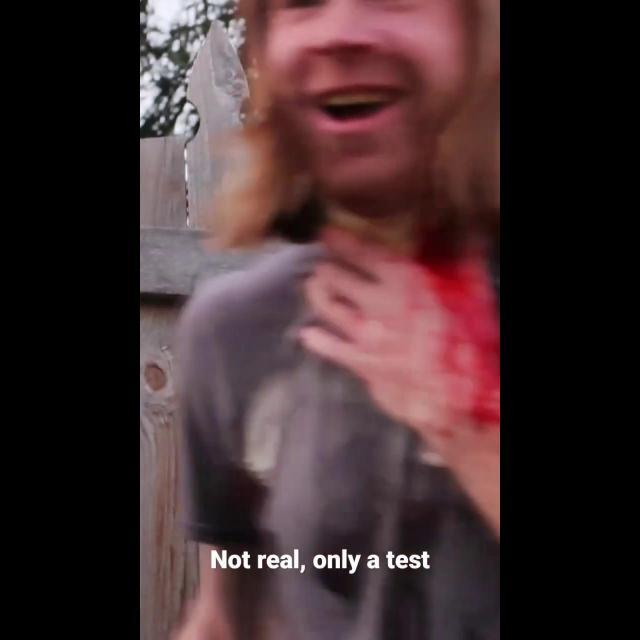blood: (404, 258, 500, 427)
